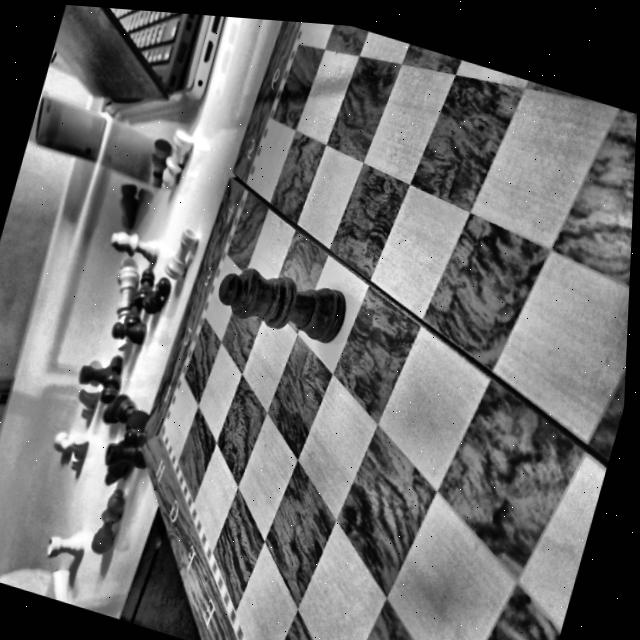black-queen: (202, 242, 363, 367)
